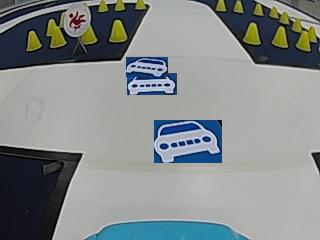cone: (243, 21, 261, 45), (109, 19, 127, 42), (48, 24, 65, 48), (25, 29, 41, 51), (272, 26, 287, 48), (296, 30, 310, 51), (81, 27, 97, 44), (253, 2, 264, 16), (269, 4, 279, 19), (292, 17, 302, 32), (279, 10, 289, 24), (97, 0, 108, 12), (215, 0, 226, 12), (233, 0, 243, 13), (114, 0, 125, 11), (135, 0, 146, 10)
tumble: (64, 5, 89, 33)
